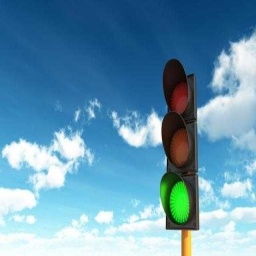traffic light: (159, 58, 199, 231)
